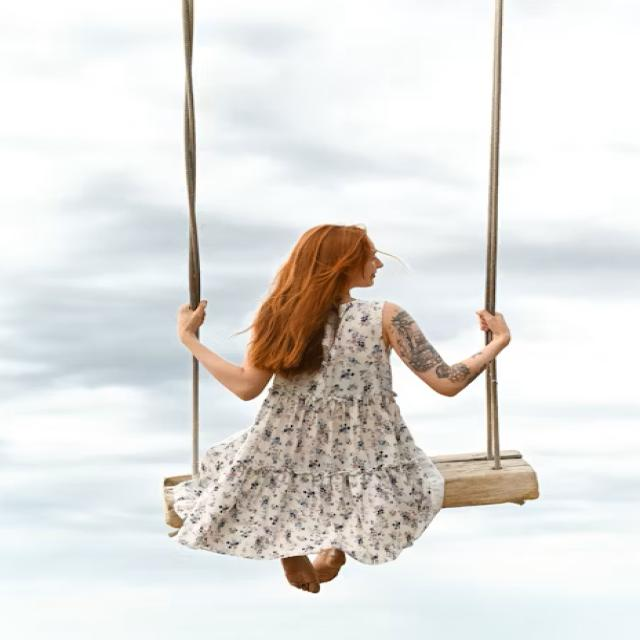Edited images: (164, 201, 519, 605)
